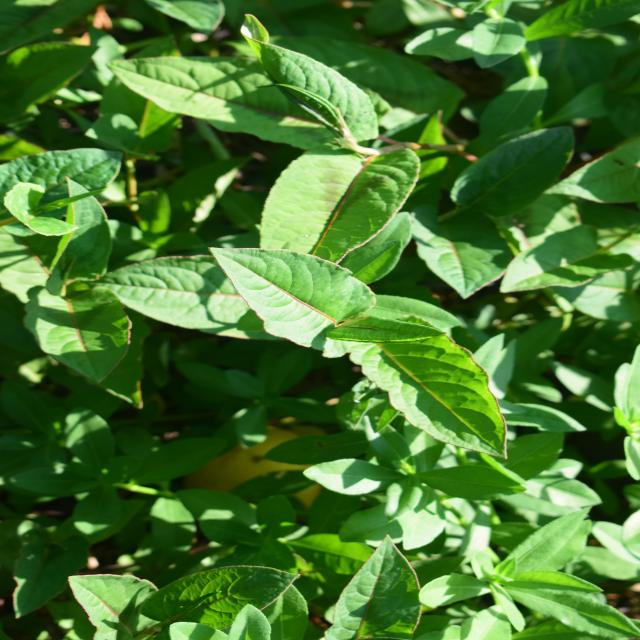Chinese_knotweed: (97, 100, 417, 499)
